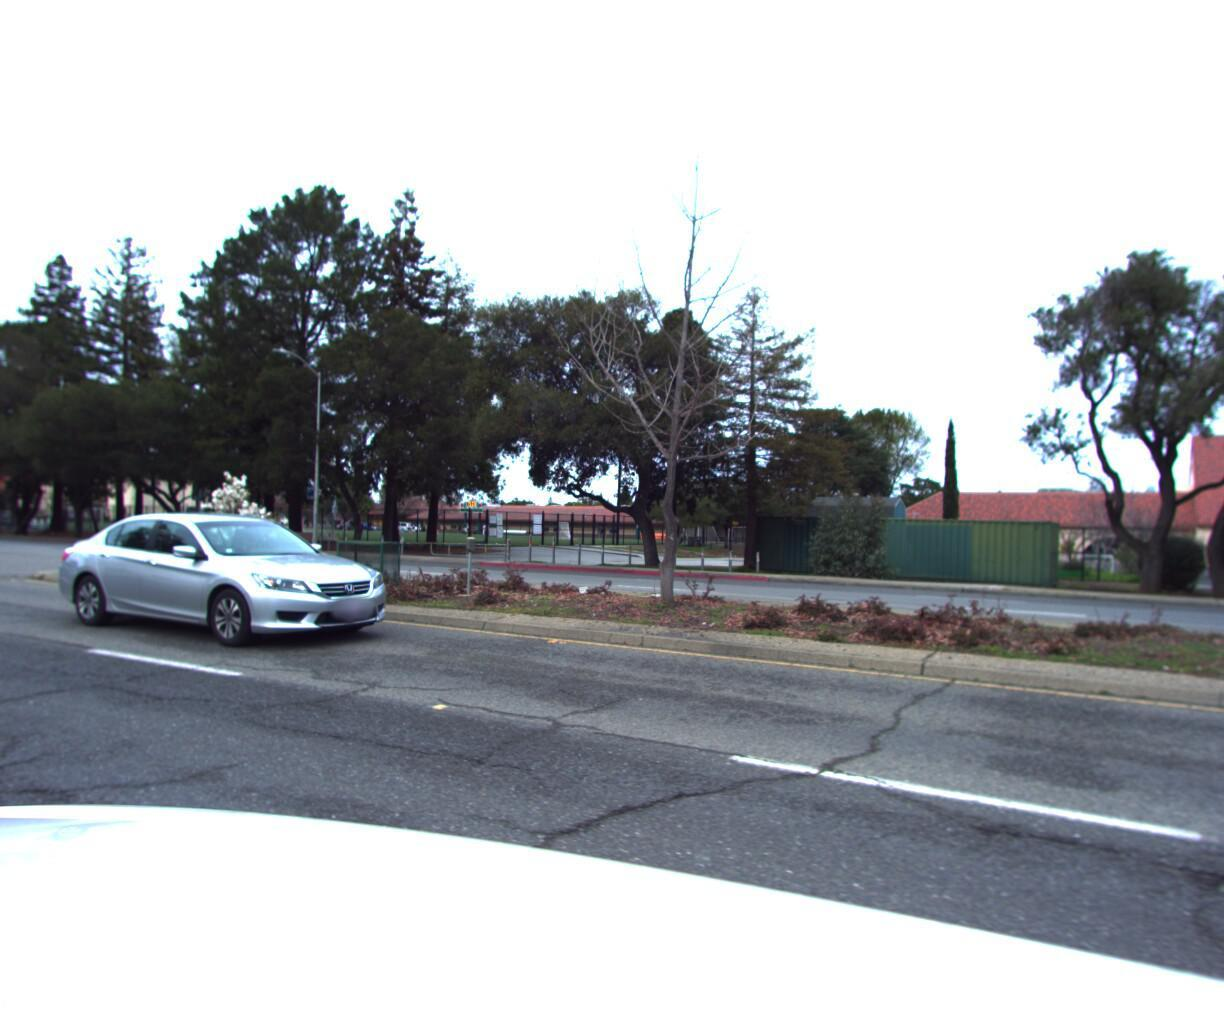car: (36, 496, 425, 668)
